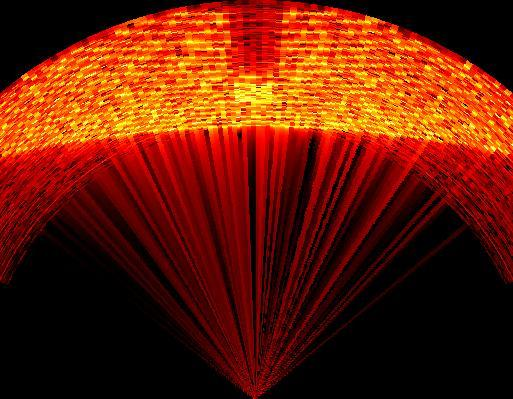box_crate: (223, 2, 280, 74)
